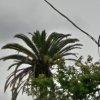Palm tree: (14, 20, 79, 99)
